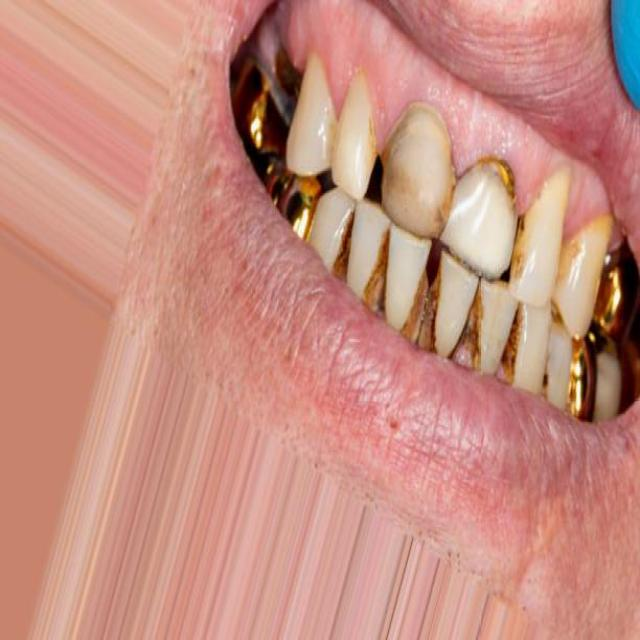caries: (482, 145, 526, 208)
